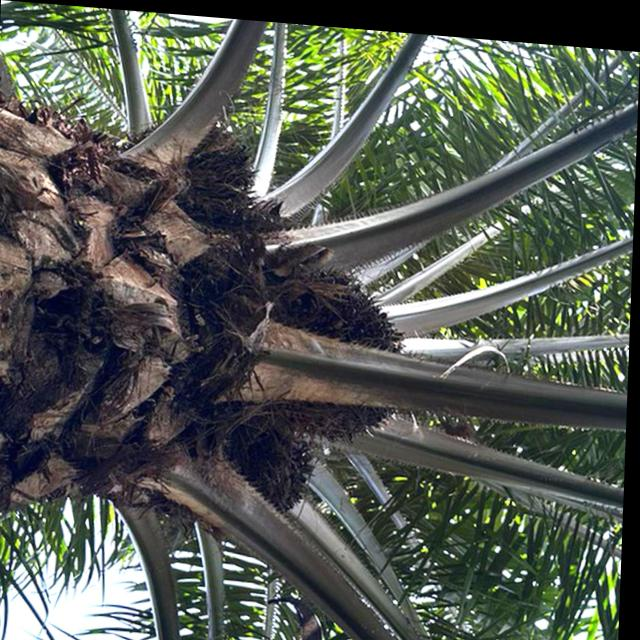ripe: (279, 259, 418, 454)
